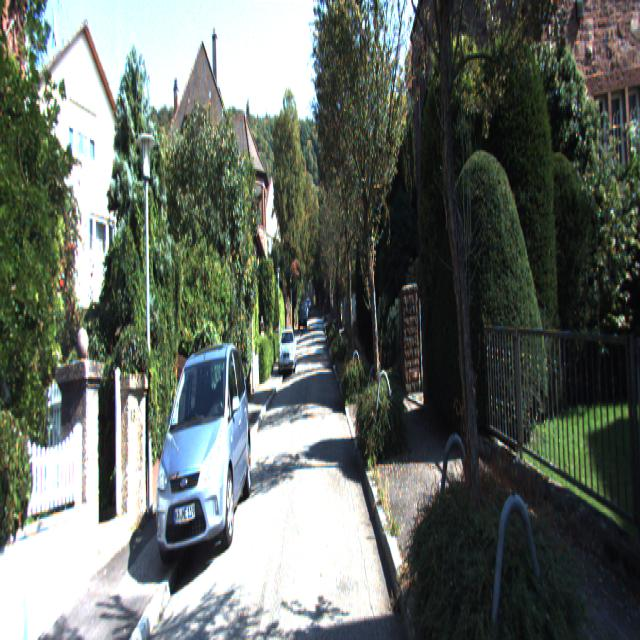Car: (149, 335, 252, 575), (279, 329, 297, 379)
